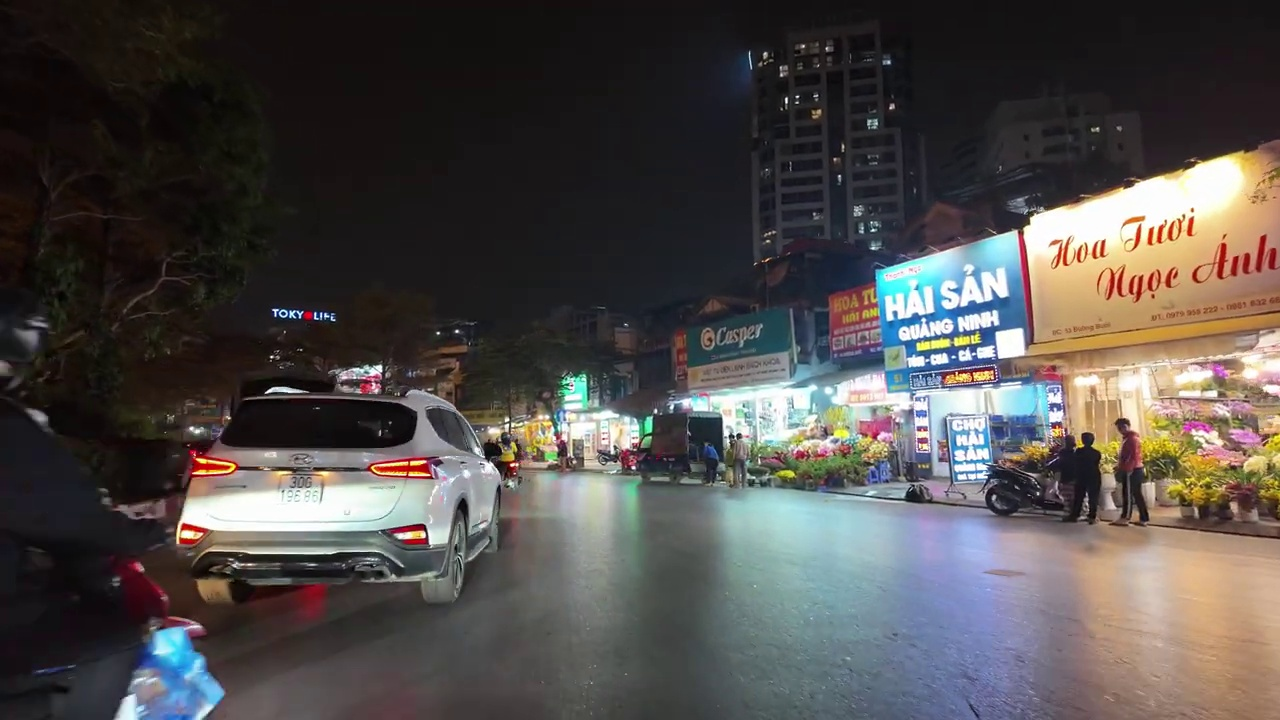acesa: (1187, 160, 1251, 218)
